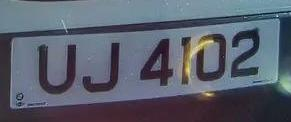0: (193, 26, 232, 88)
1: (175, 30, 196, 91)
2: (228, 24, 265, 85)
4: (136, 33, 180, 93)
J: (77, 35, 125, 98)
U: (32, 38, 80, 100)
